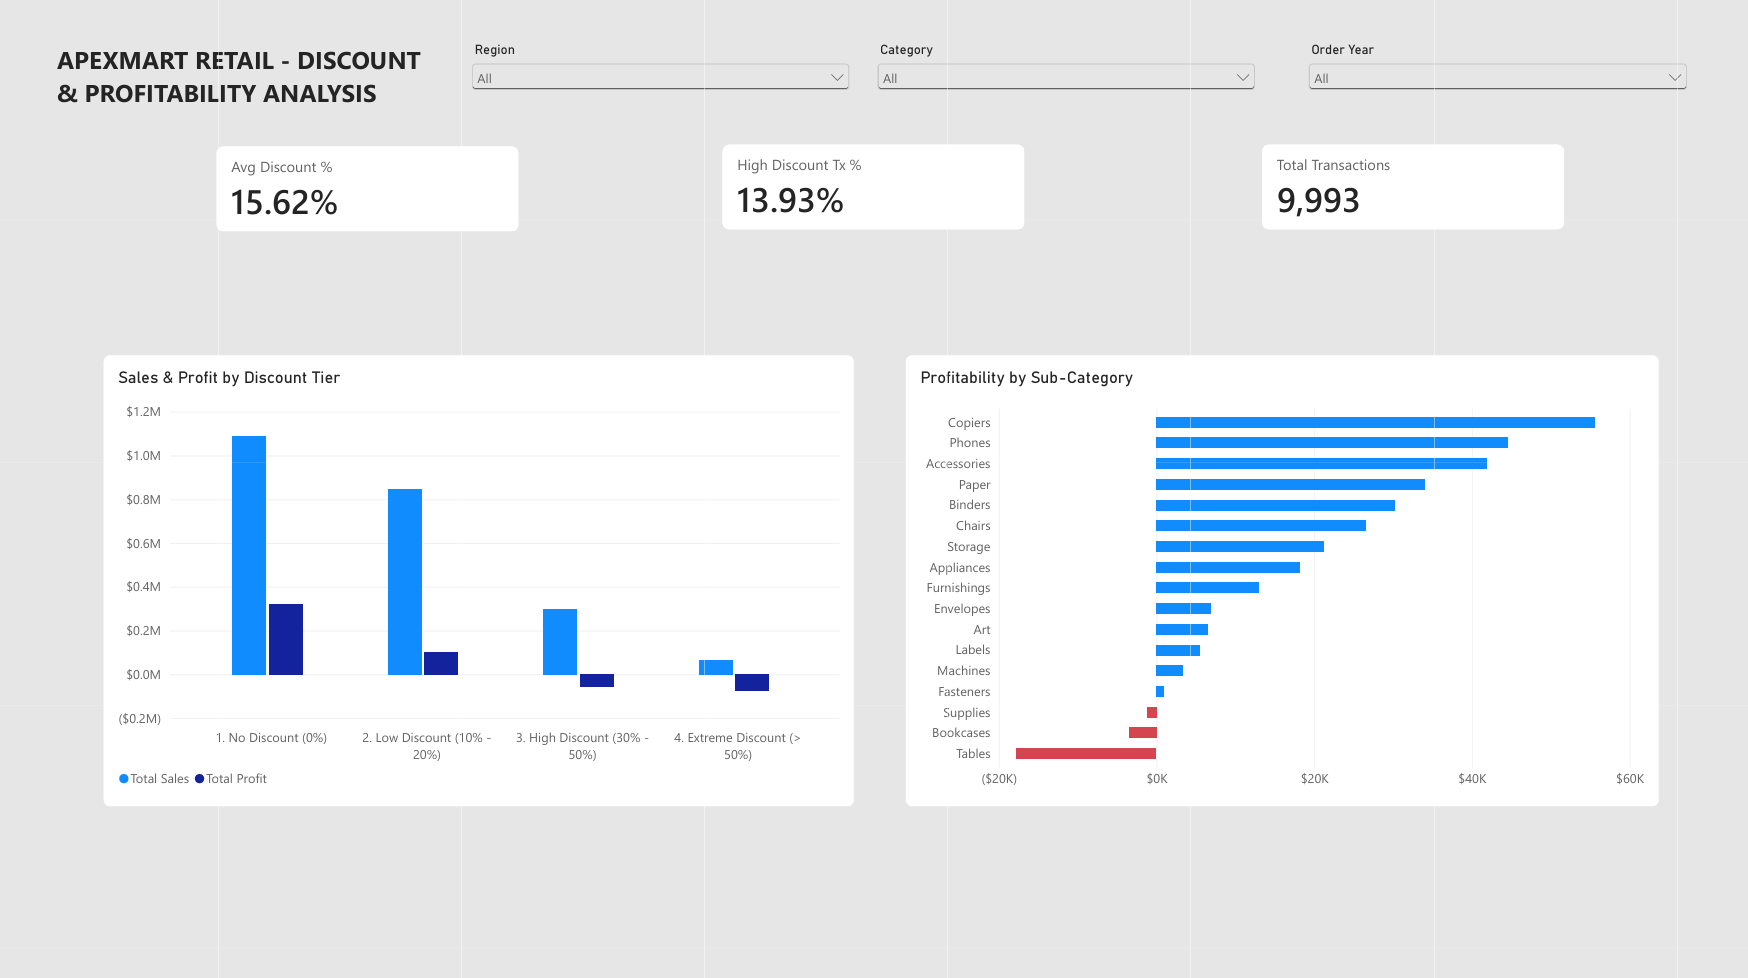

The dashboard page shown, as its layout file describes it:
{"tool":"powerbi","page":{"name":"Discount & Profitability","canvas":[1920,1080],"ordinal":1},"visuals":[{"type":"textbox","box":[65,47.5,412.5,107.5],"z":0},{"type":"slicer","fields":{"Values":["sales_data.region"]},"box":[515,47.5,424.3,84.3],"z":1000},{"type":"slicer","fields":{"Values":["sales_data.category"]},"box":[960,47.8,424.3,84.3],"z":2000},{"type":"slicer","fields":{"Values":["sales_data.order_year"]},"box":[1433.3,47.8,424.3,84.3],"z":3000},{"type":"cardVisual","fields":{"Data":["sales_data.Avg Discount %"]},"box":[237.5,160,335,97.5],"z":4000},{"type":"cardVisual","fields":{"Data":["sales_data.High Discount Tx %"]},"box":[792.5,157.5,335,97.5],"z":5000},{"type":"cardVisual","fields":{"Data":["sales_data.Total Transactions"]},"box":[1385,157.5,335,97.5],"z":6000},{"type":"clusteredColumnChart","title":"Sales & Profit by Discount Tier","fields":{"Category":["sales_data.discount_tier"],"Y":["sales_data.Total Sales","sales_data.Total Profit"]},"box":[115,390,825,496.7],"z":7000},{"type":"clusteredBarChart","title":"Profitability by Sub-Category","fields":{"Category":["sales_data.sub_category"],"Y":["sales_data.Total Profit"]},"box":[995,390,828.3,496.7],"z":8000}]}

Visuals, with their boxes in screenshot pixels (x1, y1, x2, y2), scaled from the page's 1920x1080 canvas onto the 1748x978 screenshot:
textbox: detection(59, 43, 435, 140)
slicer - sales_data.region: detection(469, 43, 855, 119)
slicer - sales_data.category: detection(874, 43, 1260, 120)
slicer - sales_data.order_year: detection(1305, 43, 1691, 120)
cardVisual - sales_data.Avg Discount %: detection(216, 145, 521, 233)
cardVisual - sales_data.High Discount Tx %: detection(722, 143, 1026, 231)
cardVisual - sales_data.Total Transactions: detection(1261, 143, 1566, 231)
"Sales & Profit by Discount Tier" clusteredColumnChart: detection(105, 353, 856, 803)
"Profitability by Sub-Category" clusteredBarChart: detection(906, 353, 1660, 803)
